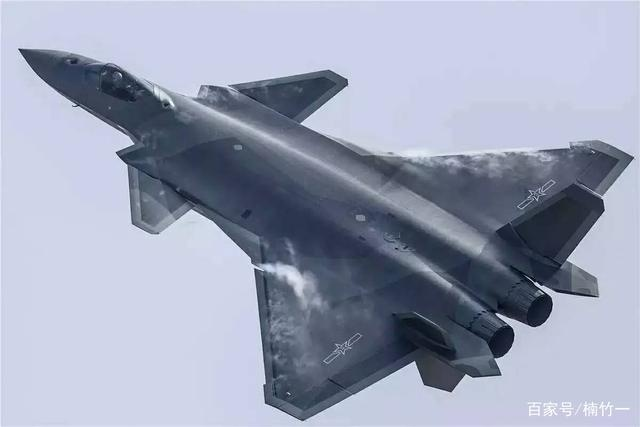airplane: (14, 39, 636, 420)
